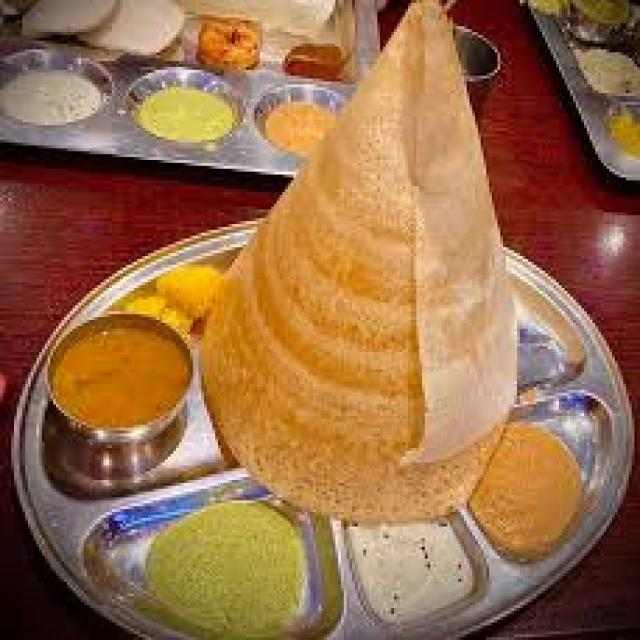DOSA: (197, 0, 527, 533)
